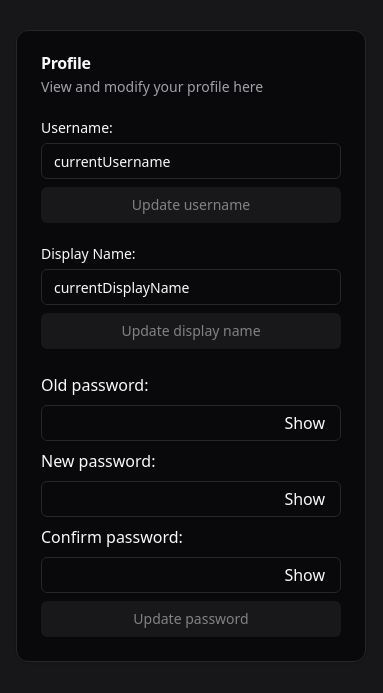
Profile Component › displays error when updating username fails
Replace the text in the field labelled "Username:" with "newUsername" at coordinates (191, 161), box [41,143,341,179]
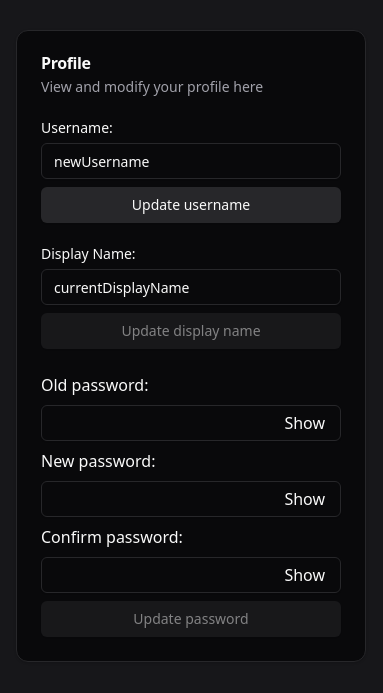
Click the button "Update username" at coordinates (191, 205), box [41,187,341,223]
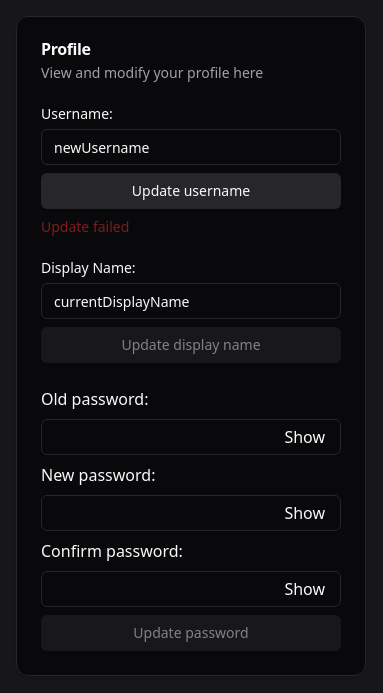
Check: the heading "Update failed" is shown, box [41,217,129,236]
